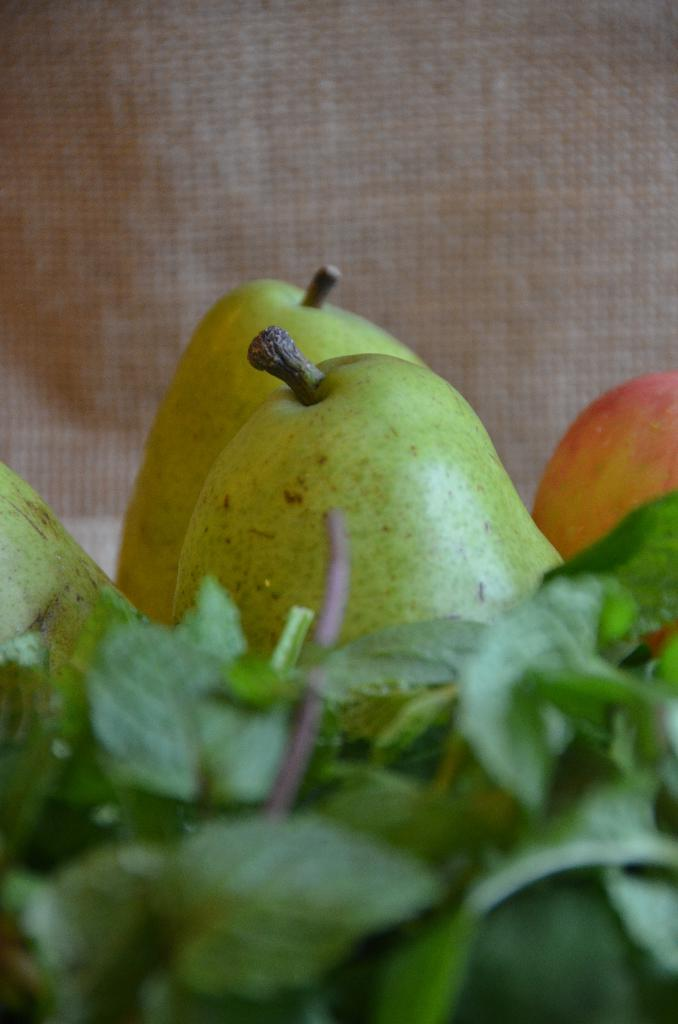Apple: (534, 352, 677, 658)
